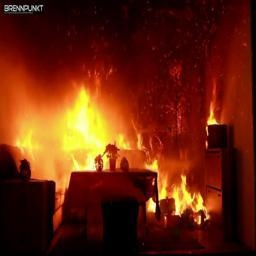fire: (3, 30, 235, 225)
